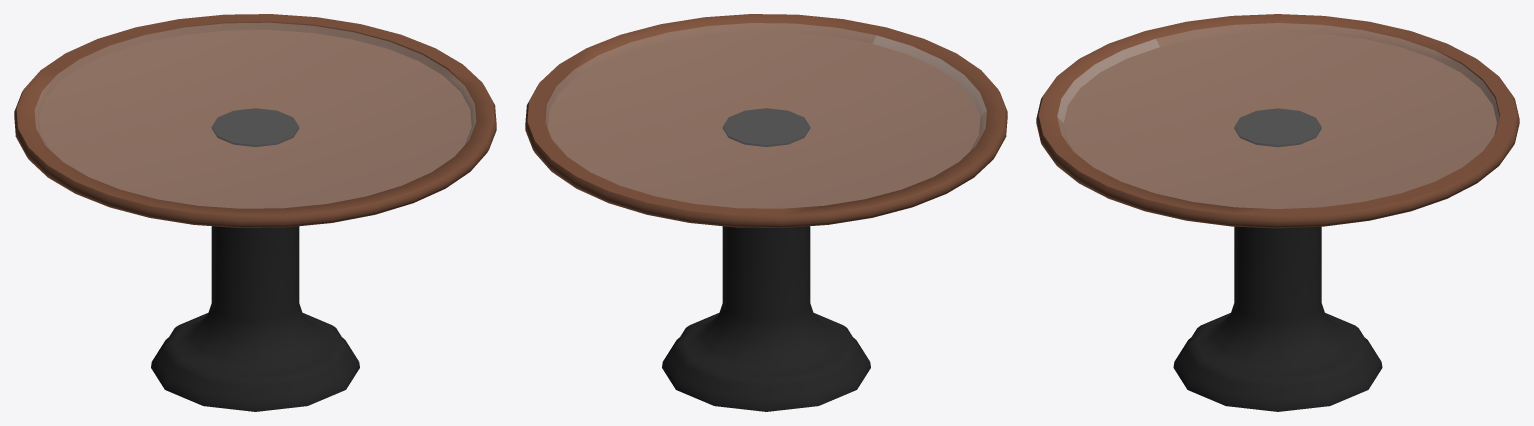
The model's file is Table-3.fbx.
3 renders of one model, left to right at view 1: azimuth 30°, elevation 25°; view 2: azimuth 150°, elevation 25°; view 3: azimuth 270°, elevation 25°, orthographic.
Visible parts, largest first — view 1: Table-3; view 2: Table-3; view 3: Table-3.
Part boxes in pixels (x1,y1,x2,y2): Table-3: (14,14,496,411); Table-3: (525,14,1007,411); Table-3: (1036,14,1519,411).
Size of the model in its own units: 1.3 by 0.75 by 1.3.
